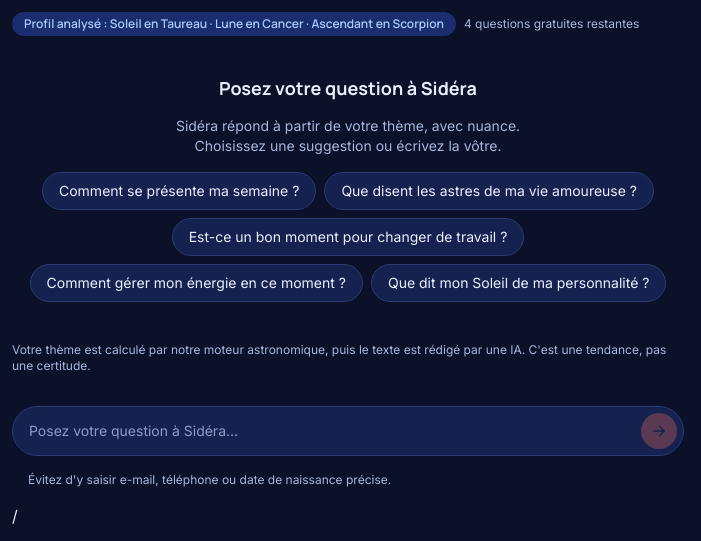
Test: ChatScreen › envoie une question au clavier et affiche la réponse
Type "Bonjour" into the field labelled "votre question" at {"x": 331, "y": 431}, box [29, 421, 633, 441]
Then press Enter
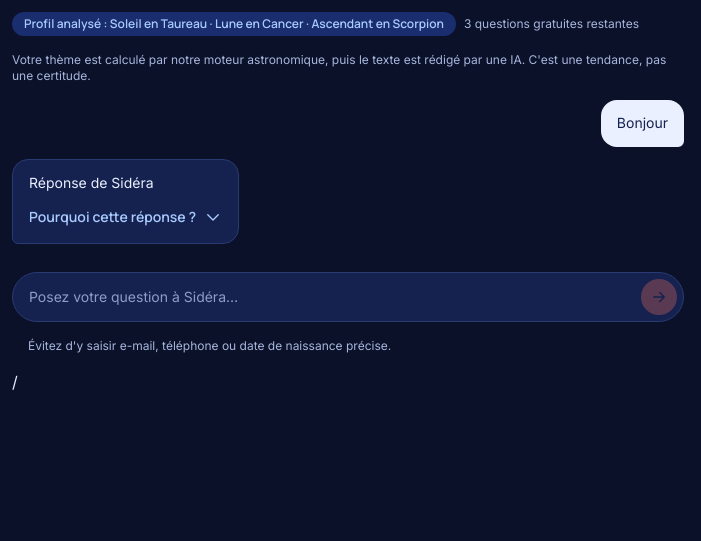
Expected: the text "Réponse de Sidéra" is shown, [29, 174, 154, 191]
Expected: the text "3 questions gratuites restantes" is shown, [464, 16, 639, 32]
